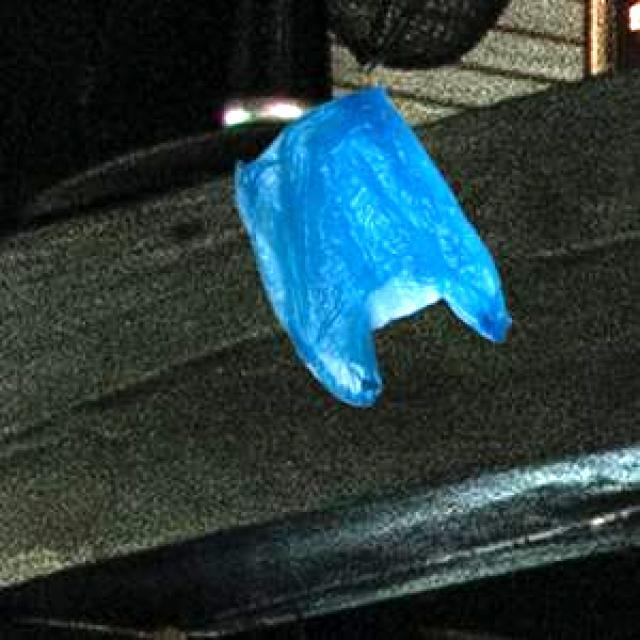Plastic_Bag: (232, 82, 506, 402)
